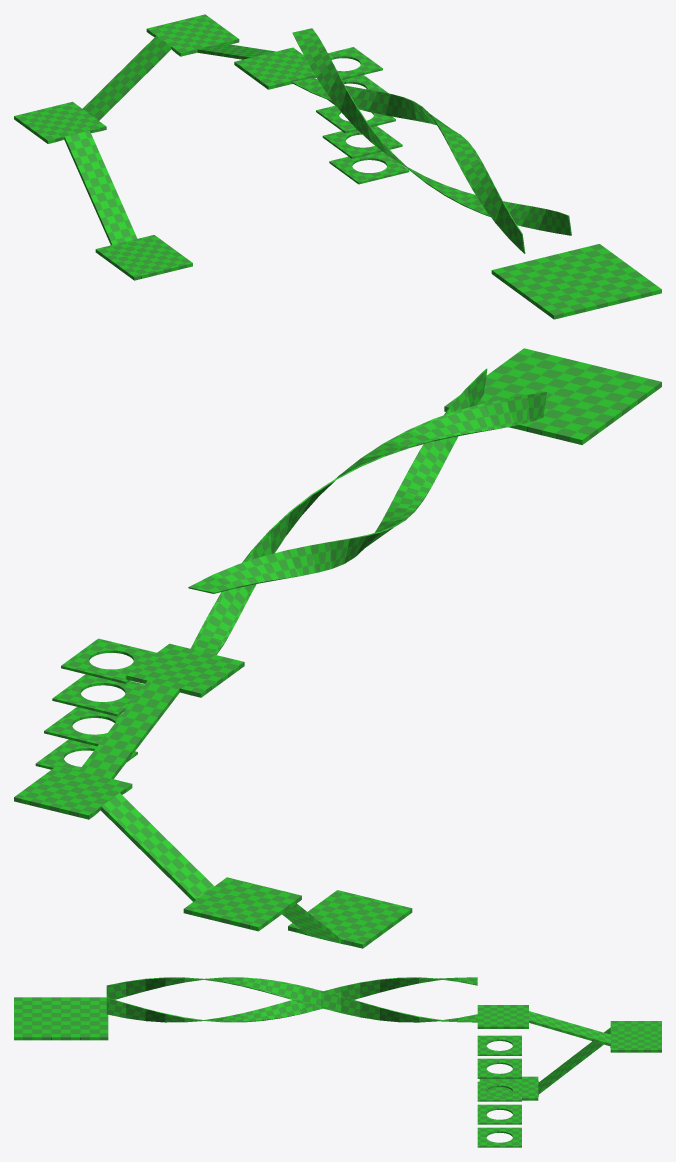
The model's file is Level_TestingSandbox.fbx.
The picture shows the model from 3 angles, top to bottom: view 1: azimuth 30°, elevation 25°; view 2: azimuth 150°, elevation 25°; view 3: azimuth 270°, elevation 25°; orthographic projection. The views are drawn at different scales.
Parts seen in each view (by area): view 1: Plane.001, Cylinder.002, Plane.003, Plane.002; view 2: Plane.001, Cylinder.002, Plane.003, Plane.002; view 3: Cylinder.002, Plane.001, Plane.003, Plane.002.
Part boxes in pixels (<box>): Plane.001: <box>14,14,316,280</box>; Cylinder.002: <box>291,28,571,253</box>; Plane.003: <box>491,244,661,319</box>; Plane.002: <box>316,47,409,184</box>; Plane.001: <box>14,643,412,948</box>; Cylinder.002: <box>188,368,546,654</box>; Plane.003: <box>444,348,661,444</box>; Plane.002: <box>35,638,156,770</box>; Cylinder.002: <box>106,977,477,1022</box>; Plane.001: <box>477,1005,661,1100</box>; Plane.003: <box>14,997,108,1040</box>; Plane.002: <box>477,1035,521,1147</box>.
Bounding box in the file's own units: 2025 × 1505 × 5486.
